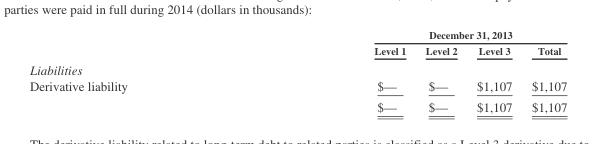table: (28, 28, 566, 113)
table column: (28, 28, 250, 113), (250, 28, 415, 113), (466, 28, 521, 113), (415, 28, 466, 113), (521, 28, 566, 113)
table column header: (28, 28, 566, 59)
table projected row header: (28, 59, 566, 77)
table row: (28, 59, 566, 77), (28, 77, 566, 95), (28, 95, 566, 113), (28, 42, 566, 59), (28, 28, 566, 42)
table spanning cell: (250, 28, 566, 42)
